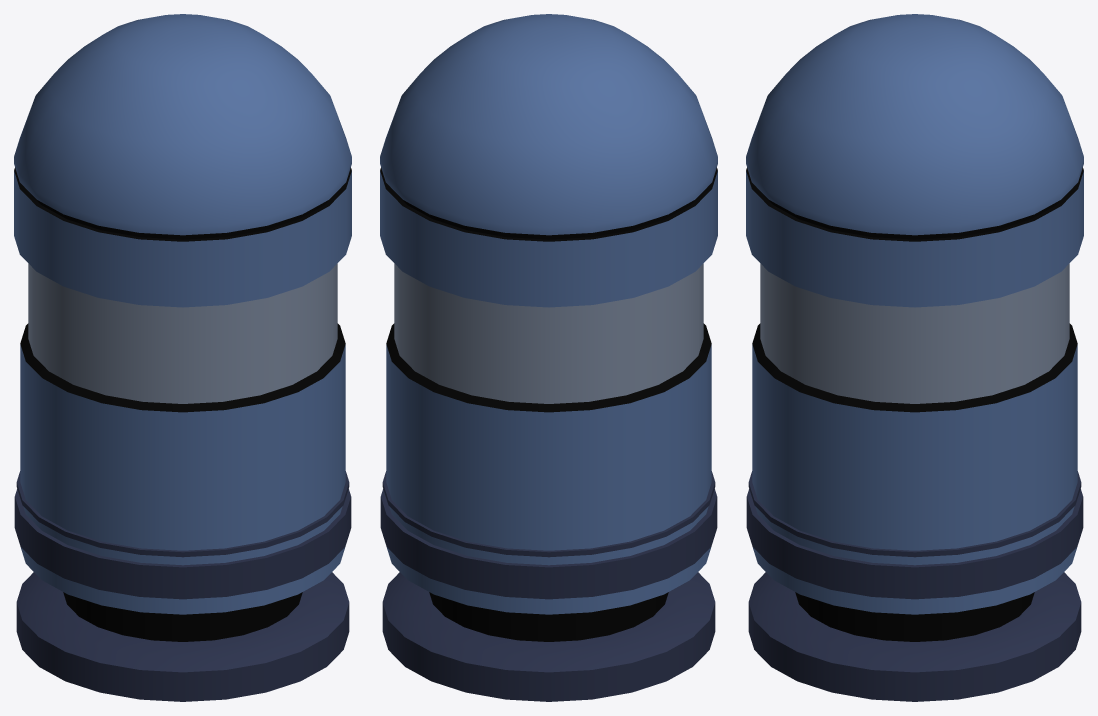
The model's file is StunGrenade.fbx.
The picture shows the model from 3 angles, left to right: view 1: azimuth 30°, elevation 25°; view 2: azimuth 150°, elevation 25°; view 3: azimuth 270°, elevation 25°; orthographic projection.
Parts seen in each view (by area): view 1: Cylinder; view 2: Cylinder; view 3: Cylinder.
Part boxes in pixels (x1,y1,x2,y2): Cylinder: (14,14,351,701); Cylinder: (380,14,717,701); Cylinder: (746,14,1083,701).
Size of the model in its own units: 208 by 405 by 208.
